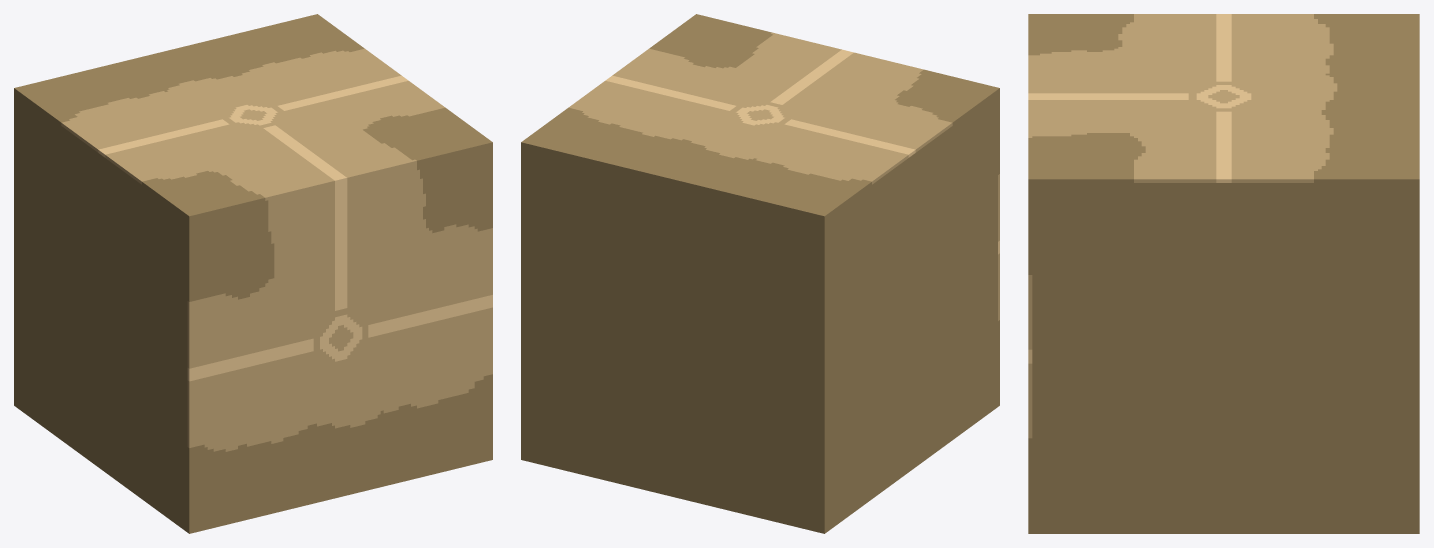
Rendered from floor3_wall3.obj.
The picture shows the model from 3 angles, left to right: view 1: azimuth 30°, elevation 25°; view 2: azimuth 150°, elevation 25°; view 3: azimuth 270°, elevation 25°; orthographic projection. The views are drawn at different scales.
Visible parts, largest first — view 1: floor3_wall3; view 2: floor3_wall3; view 3: floor3_wall3.
Boxes of the visible parts, <box> form: floor3_wall3: <box>14,14,492,533</box>; floor3_wall3: <box>521,14,999,533</box>; floor3_wall3: <box>1028,14,1419,533</box>.
Bounding box in the file's own units: 100 × 100 × 100.
Materials: 1 (1 with a texture image).
